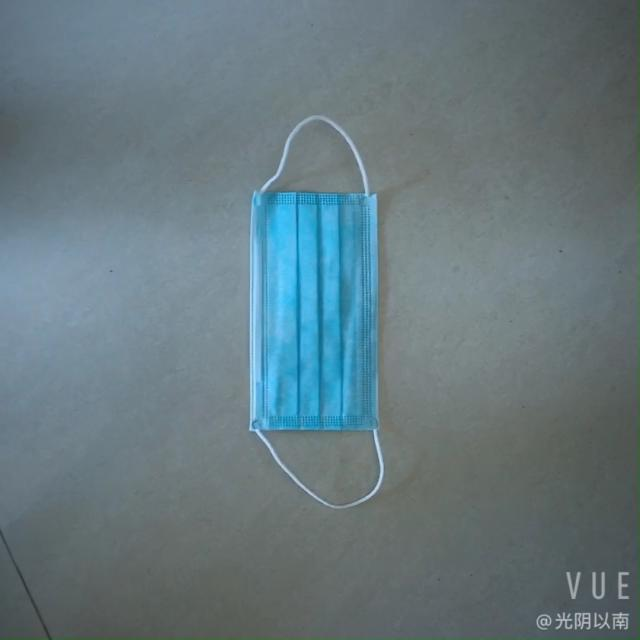face mask: (240, 174, 394, 444)
